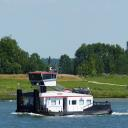tugboat: (17, 67, 114, 119)
